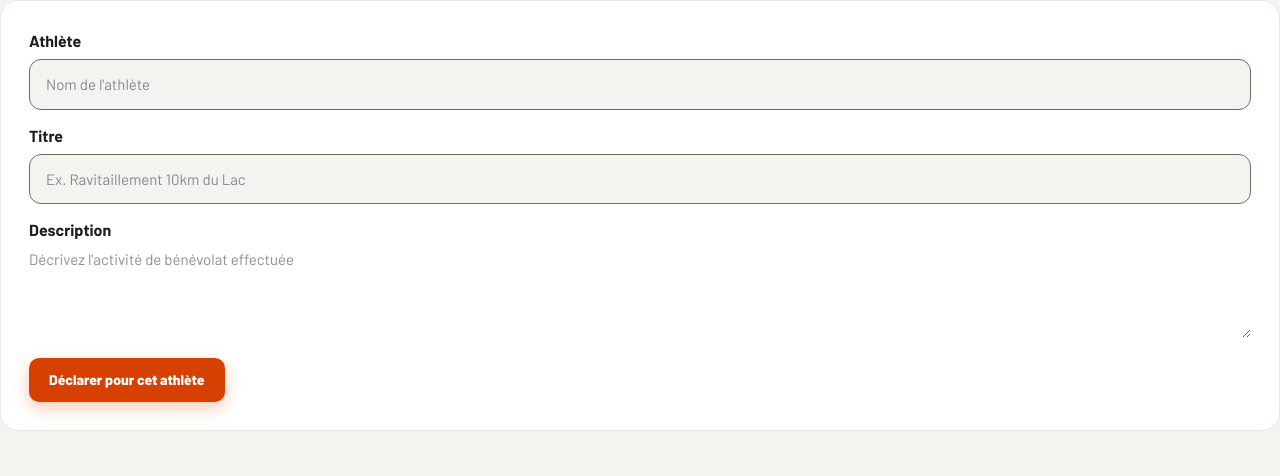
Test: VolunteerActionForm › affiche un état vide quand la recherche ne trouve personne
This screenshot has width=1280, height=476.
Type "Zzz" into the field labelled "Athlète" at (640, 84), box x1=46 y1=73 x2=1234 y2=96
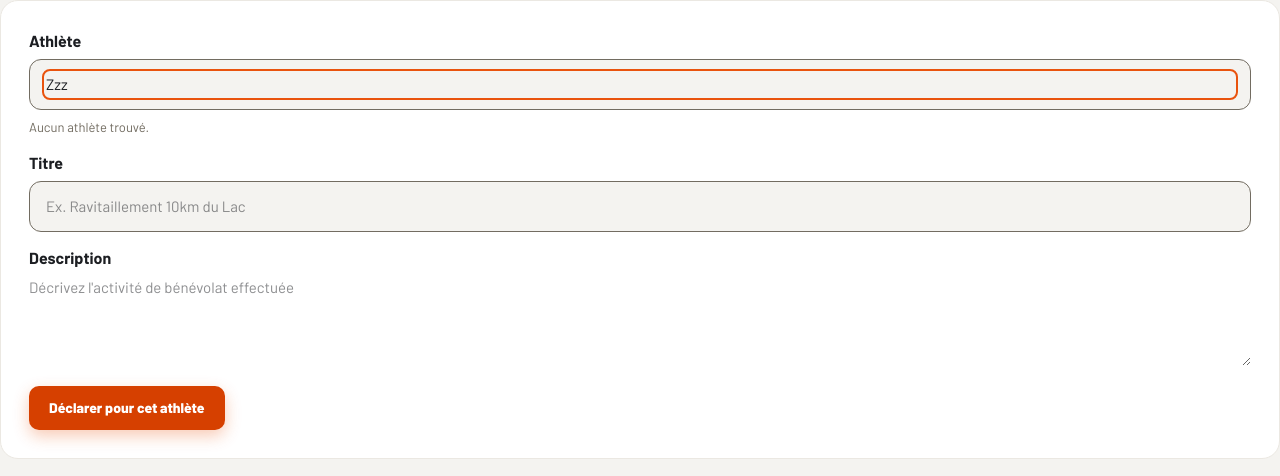
Now the text "Aucun athlète trouvé." is shown, box x1=29 y1=118 x2=149 y2=134
